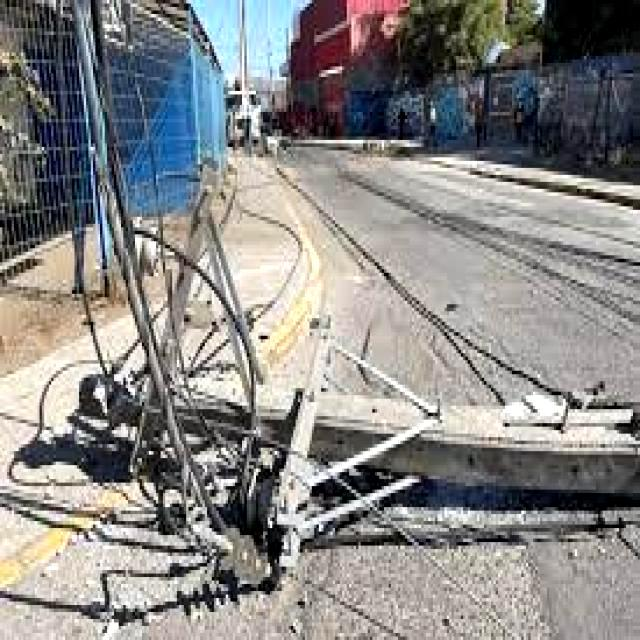Broken Pole: (83, 154, 638, 564)
